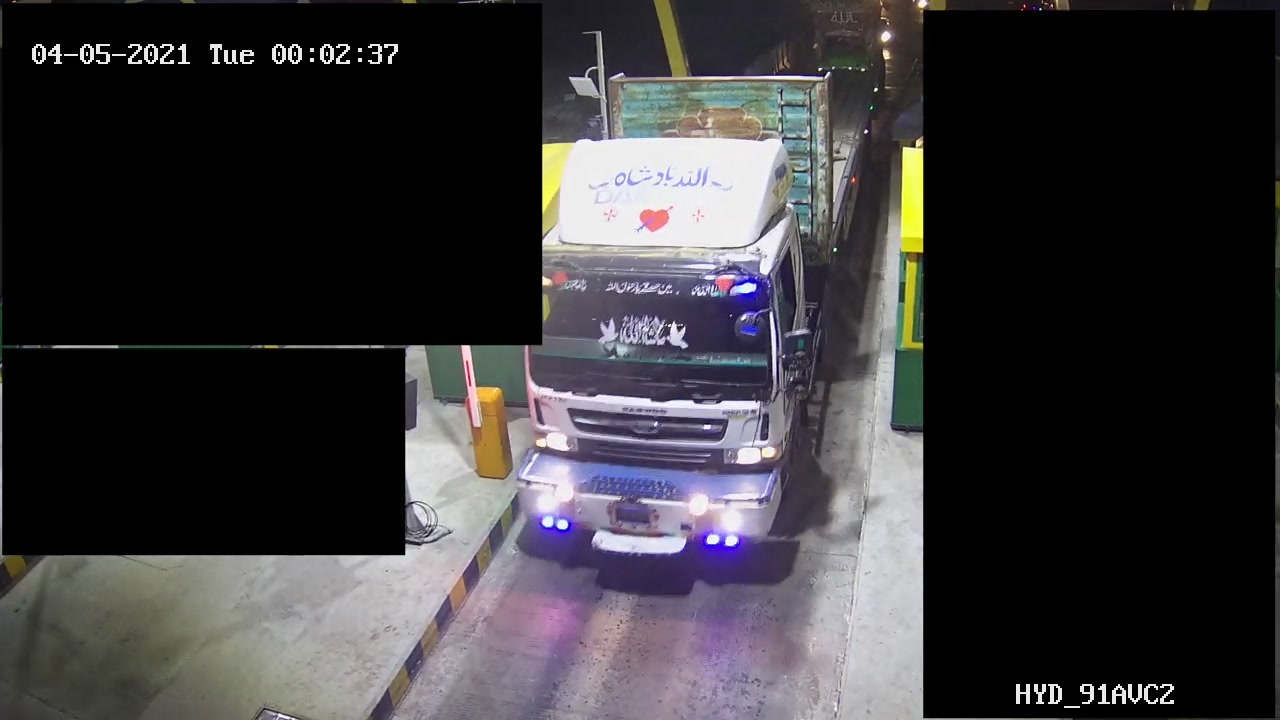F6: (515, 70, 908, 592)
